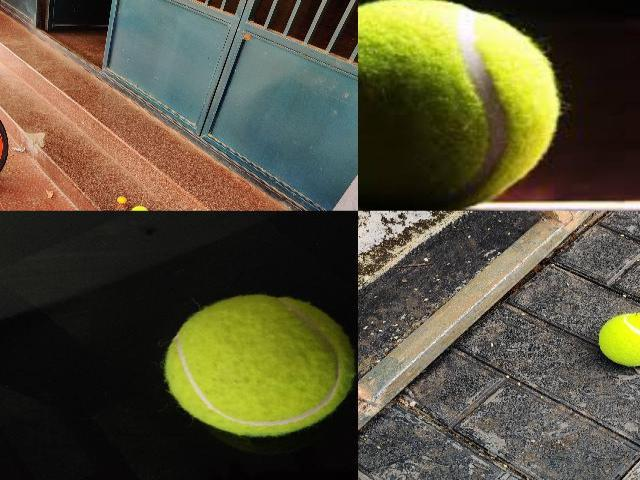tennis-ball: (358, 0, 563, 210), (164, 293, 356, 437), (596, 312, 639, 367), (130, 206, 148, 210)
